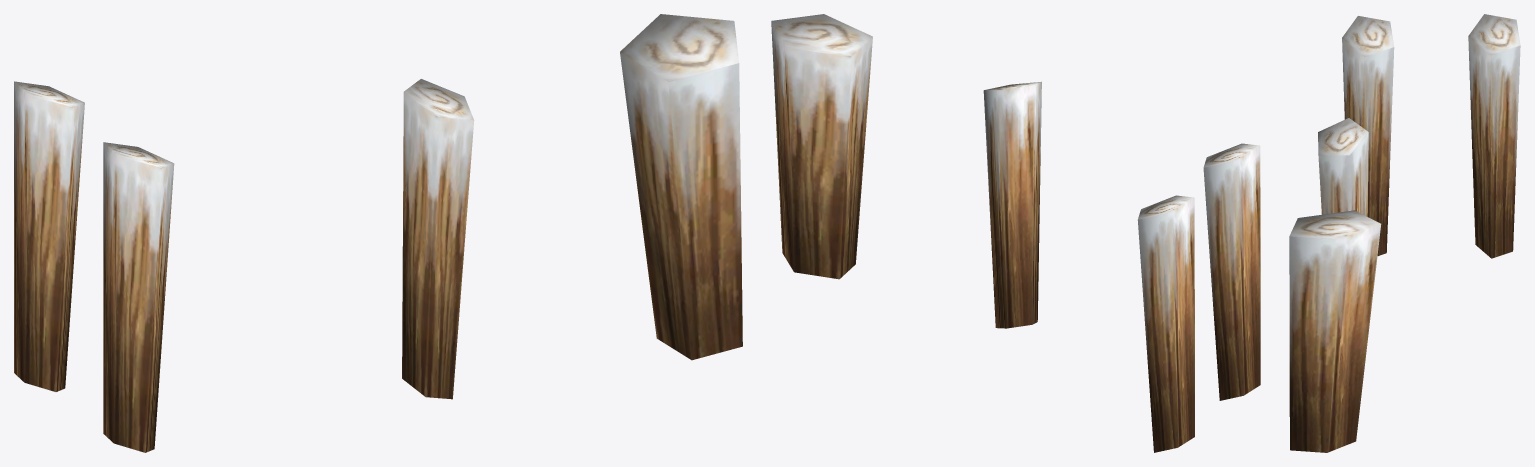
File: SM_Enclosure_25.fbx
The picture shows the model from 3 angles, left to right: view 1: azimuth 30°, elevation 25°; view 2: azimuth 150°, elevation 25°; view 3: azimuth 270°, elevation 25°; orthographic projection. The views are drawn at different scales.
Parts seen in each view (by area): view 1: SM_Enclosure_25; view 2: SM_Enclosure_25; view 3: SM_Enclosure_25.
Boxes of the visible parts, <box> form: SM_Enclosure_25: <box>14,14,742,452</box>; SM_Enclosure_25: <box>771,14,1260,452</box>; SM_Enclosure_25: <box>1289,14,1520,452</box>.
Size of the model in its own units: 7.93 by 3.81 by 3.47.
